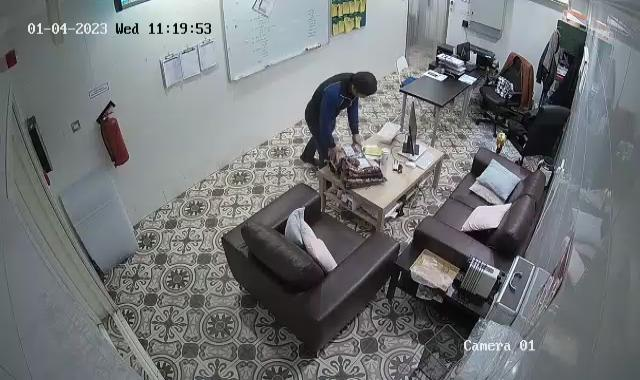no_hairnet: (350, 68, 378, 100)
